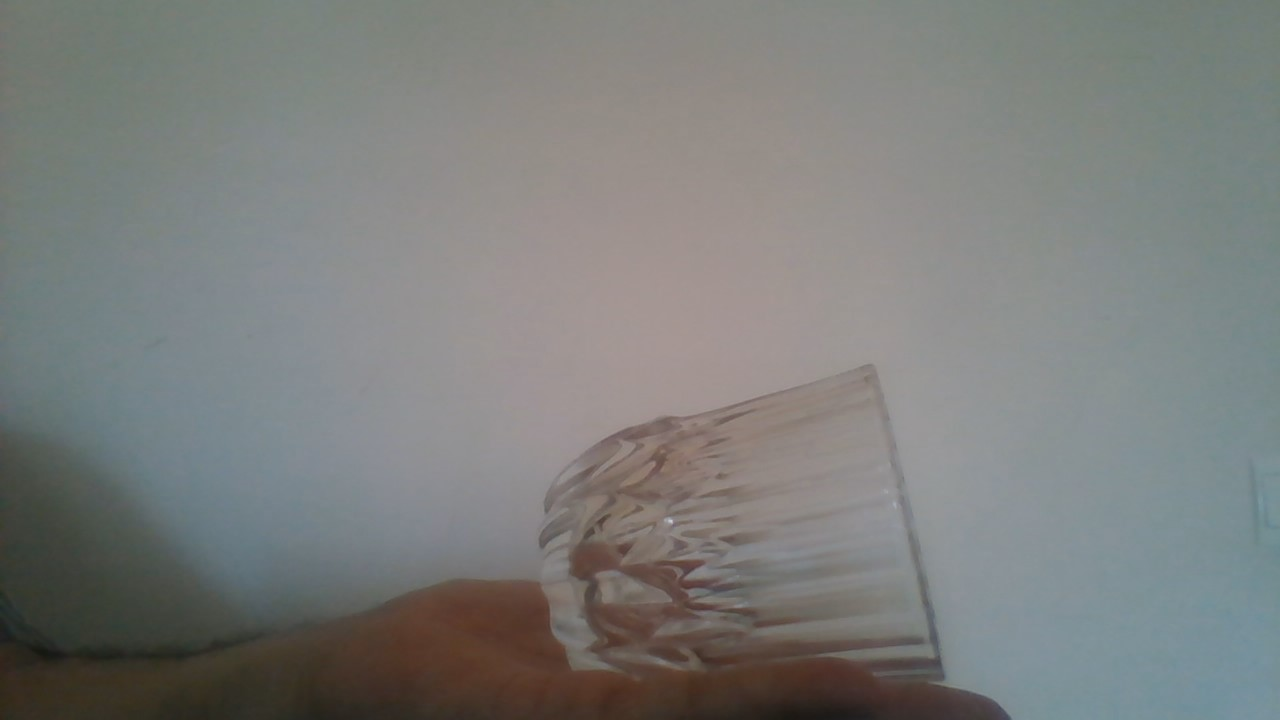glass: (528, 360, 954, 691)
